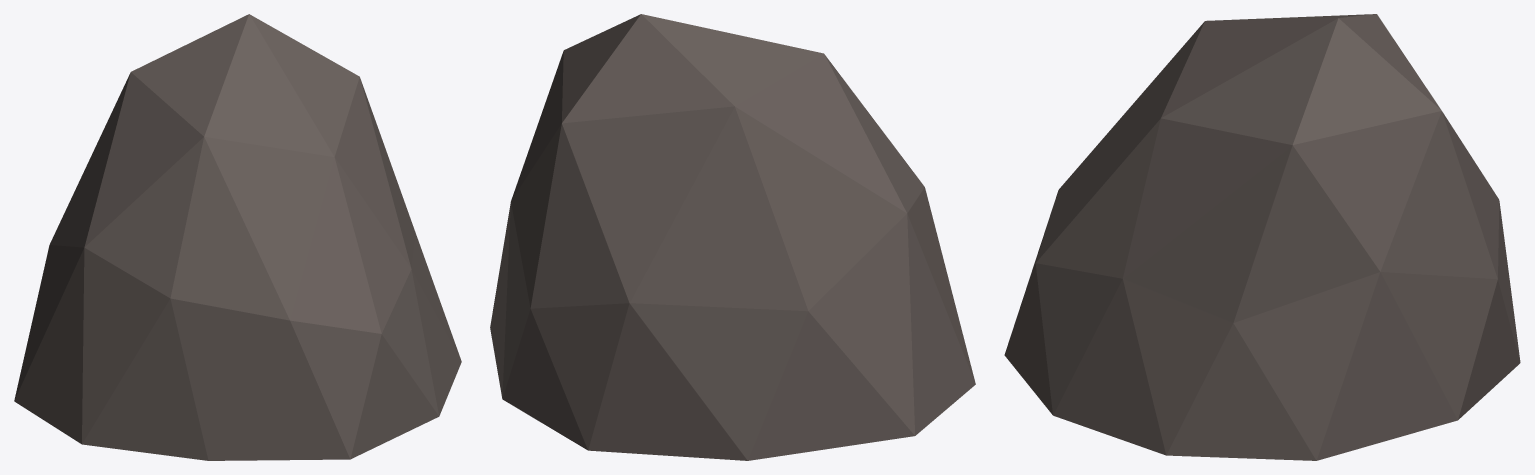
The model's file is Stone(3).fbx.
3 renders of one model, left to right at view 1: azimuth 30°, elevation 25°; view 2: azimuth 150°, elevation 25°; view 3: azimuth 270°, elevation 25°, orthographic. The views are drawn at different scales.
Visible parts, largest first — view 1: Stone(3); view 2: Stone(3); view 3: Stone(3).
Part boxes in pixels (x1,y1,x2,y2): Stone(3): (14, 14, 461, 460); Stone(3): (490, 14, 975, 460); Stone(3): (1004, 14, 1520, 460).
Size of the model in its own units: 1.77 by 1.42 by 1.83.
